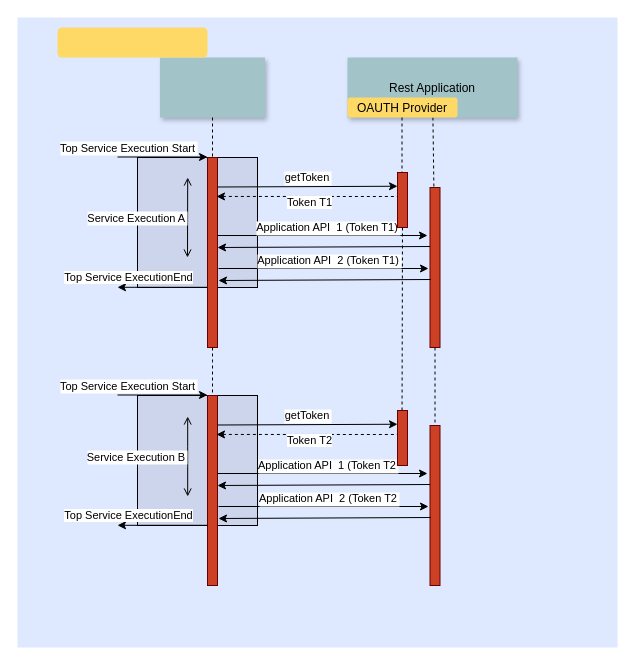
The diagram is 634 pixels wide and 664 high, and some of its shapes have lost their labels. Here are the shapes that lost their labels. From the top down, the centre of each, then its label:
(x=132, y=42): Usecase Flow
(x=213, y=88): wM.Io
